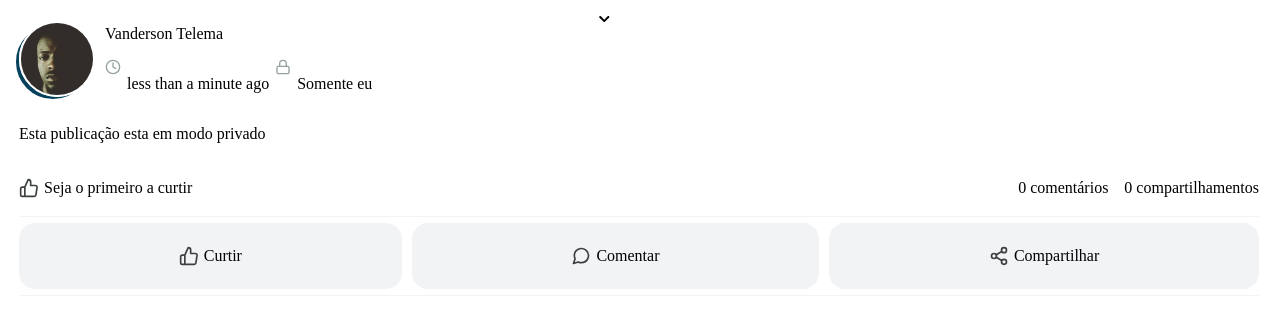
Test: Pub › should like/unlick on click
This screenshot has width=1276, height=313.
Click the button named "like-button" at (210, 256), box [19,223,402,289]
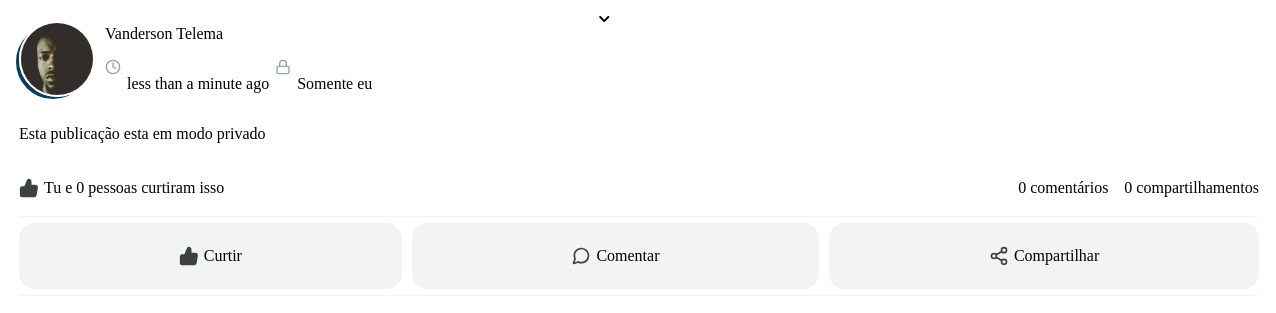
Check: the text "Tu e 0 pessoas curtiram isso" is shown, box [44,179,224,197]
Click the button named "like-button" at (210, 256), box [19,223,402,289]
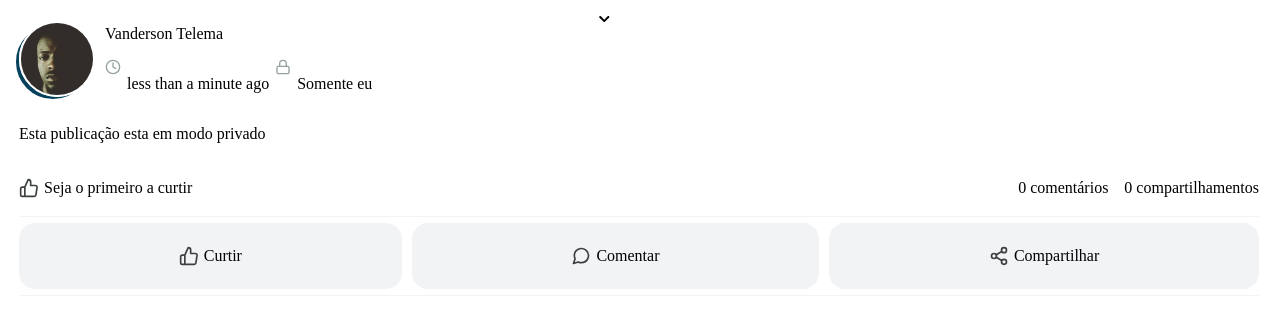
Check: the text "Seja o primeiro a curtir" is shown, box [44,179,192,197]
